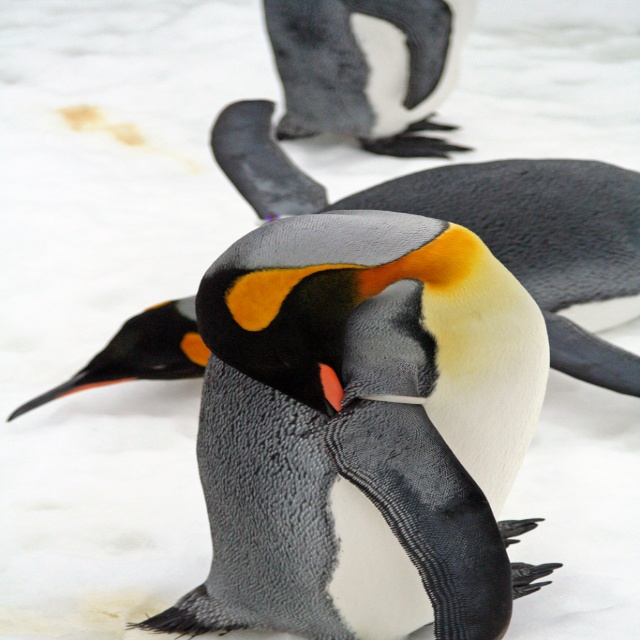Penguin: (5, 89, 639, 423)
